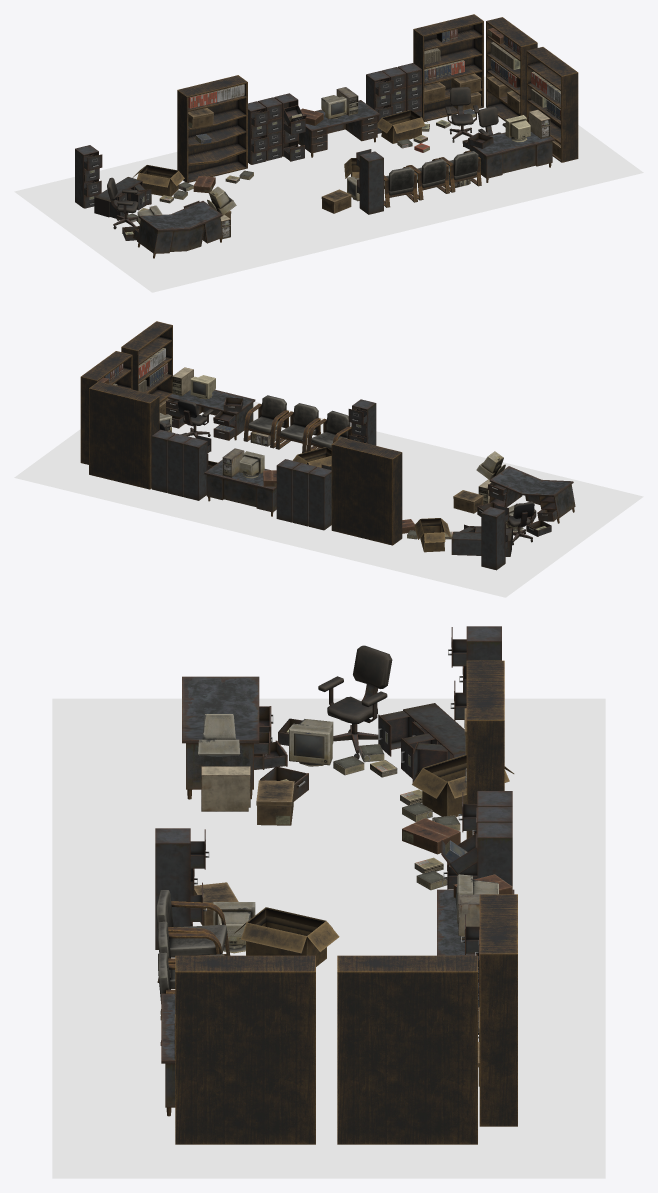
File: ruined-office-furniture.glb
The picture shows the model from 3 angles, top to bottom: view 1: azimuth 30°, elevation 25°; view 2: azimuth 150°, elevation 25°; view 3: azimuth 270°, elevation 25°; orthographic projection. The views are drawn at different scales.
Visible parts, largest first — view 1: Plane001, shelf2, shelf1_26, shelf4, desk_closed2, desk_open_65, shelf3, desk_closed_23, cabinet_open2_79, cabinet_open_56, cabinet_closed2, cabinet_broken_59 (+19 smaller); view 2: Plane001, shelf2, shelf1_26, desk_closed2, shelf4, desk_closed_23, desk_open_65, shelf3, cabinet_open_56, cabinet_open5, cabinet_closed3, chair2 (+18 smaller); view 3: Plane001, shelf3, shelf4, shelf1_26, desk_closed2, shelf2, cabinet_broken_59, cabinet_open2_79, box1_122, chair_office2_62, cabinet_closed2, box2_125 (+15 smaller).
Part boxes in pixels (x1,y1,x2,y2): Plane001: (14,76,643,292); shelf2: (177,75,247,182); shelf1_26: (413,14,483,121); shelf4: (526,47,578,162); desk_closed2: (133,201,222,258); desk_open_65: (462,132,554,182); shelf3: (486,17,537,121); desk_closed_23: (298,100,380,157); cabinet_open2_79: (356,149,383,214); cabinet_open_56: (75,145,102,208); cabinet_closed2: (274,93,306,161); cabinet_broken_59: (94,177,151,220); Plane001: (14,401,643,597); shelf2: (331,437,402,545); shelf1_26: (89,381,159,489); desk_closed2: (487,466,575,523); shelf4: (121,321,172,414); desk_closed_23: (204,459,276,516); desk_open_65: (166,389,255,440); shelf3: (80,351,132,464); cabinet_open_56: (481,504,508,570); cabinet_open5: (183,435,211,500); cabinet_closed3: (309,464,331,530); chair2: (275,403,320,453); Plane001: (52,698,605,1178); shelf3: (337,955,477,1144); shelf4: (175,955,315,1144); shelf1_26: (479,894,517,1126); desk_closed2: (182,676,273,799); shelf2: (466,660,504,838); cabinet_broken_59: (378,703,465,782); cabinet_open2_79: (155,828,209,949); box1_122: (234,907,339,966); chair_office2_62: (318,645,392,759); cabinet_closed2: (441,822,512,889); box2_125: (412,754,514,816).
Bounding box in the file's own units: 455 × 76.78 × 222.
Materials: 8 (7 with a texture image).
